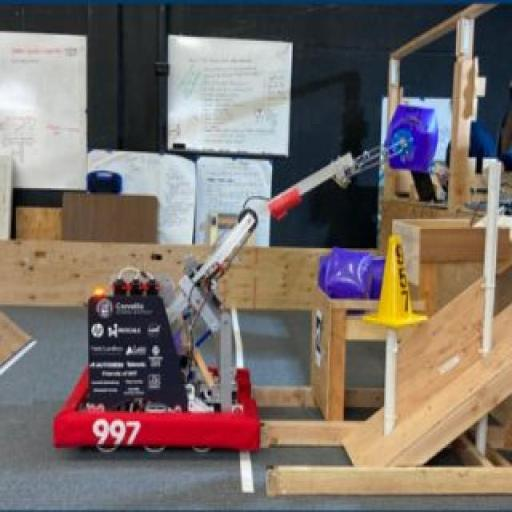robot: (46, 100, 452, 468)
